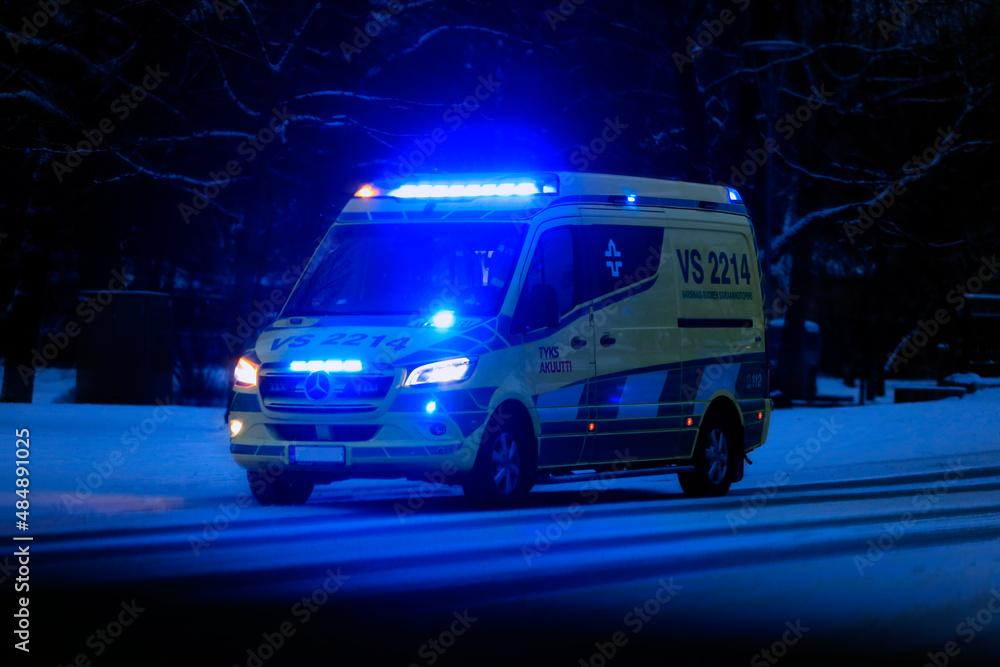ambulance_on: (227, 167, 771, 508)
